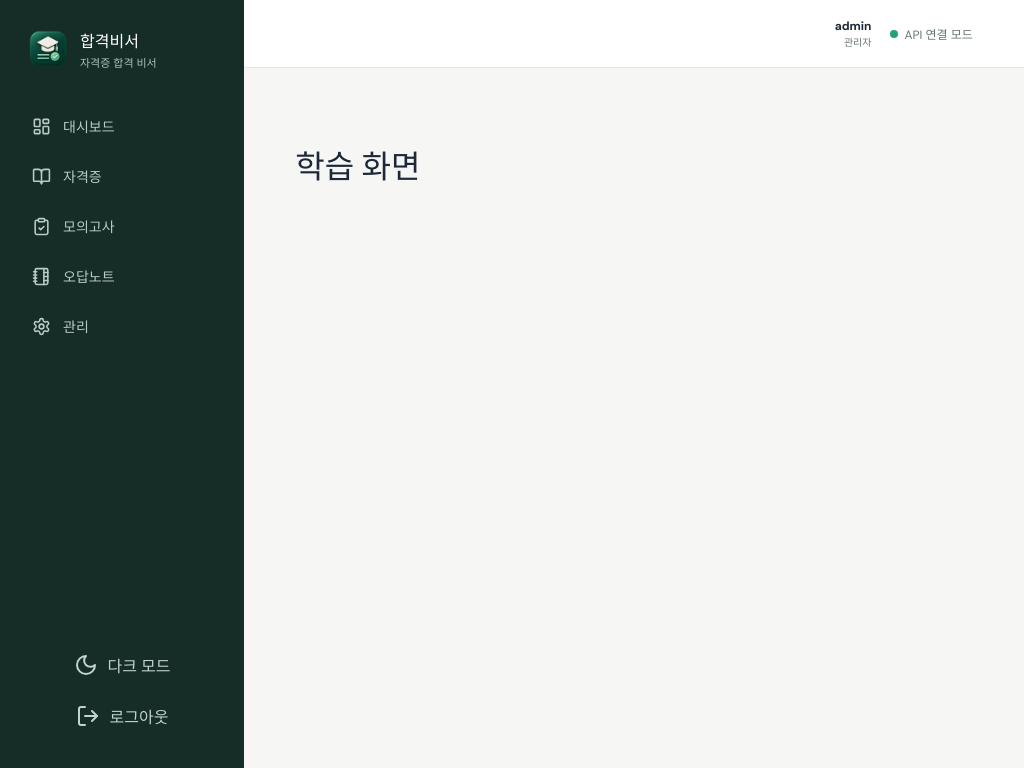
Scenario: Study exit guard › saves the partial session before navigating
The width and height of the screenshot is (1024, 768).
Click the link "대시보드" at (73, 126), box [32,116,114,136]
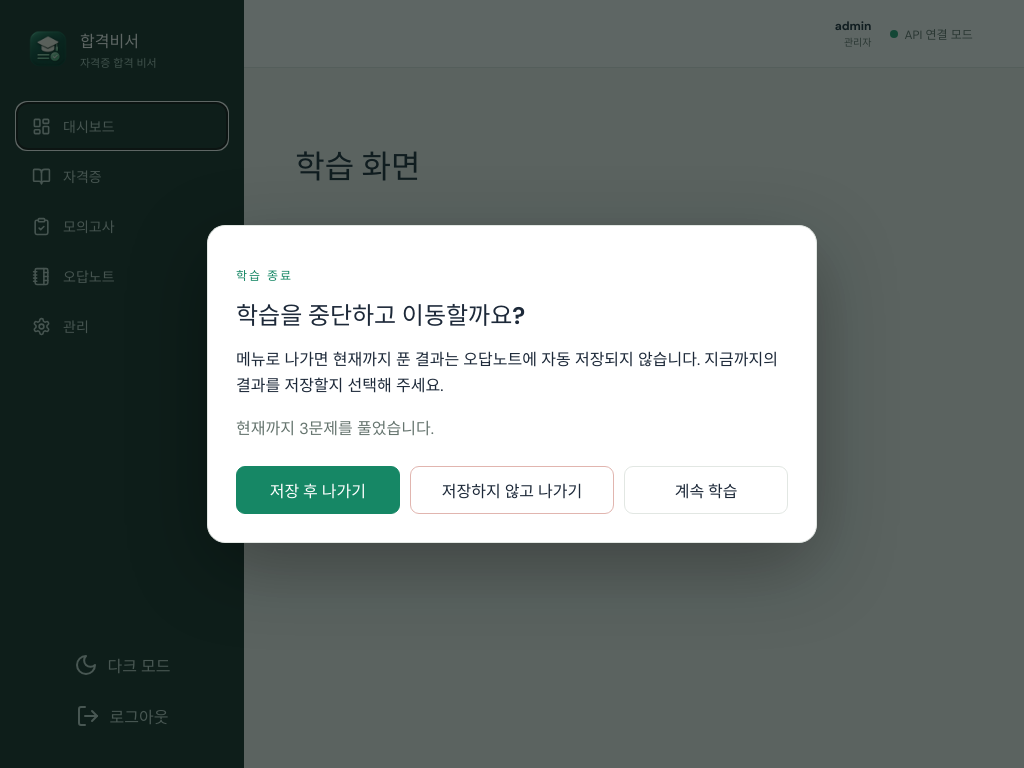
Click the button "저장 후 나가기" at (318, 490), box [236,466,400,514]
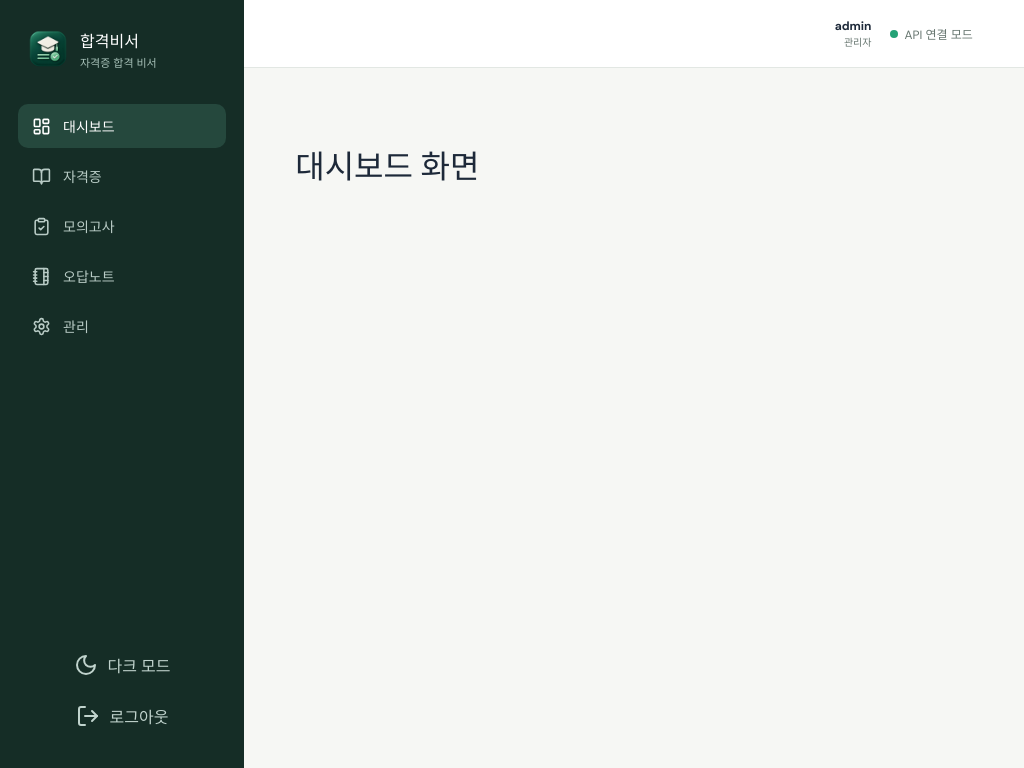
Expected: the heading "대시보드 화면" is shown, [295,146,479,188]
